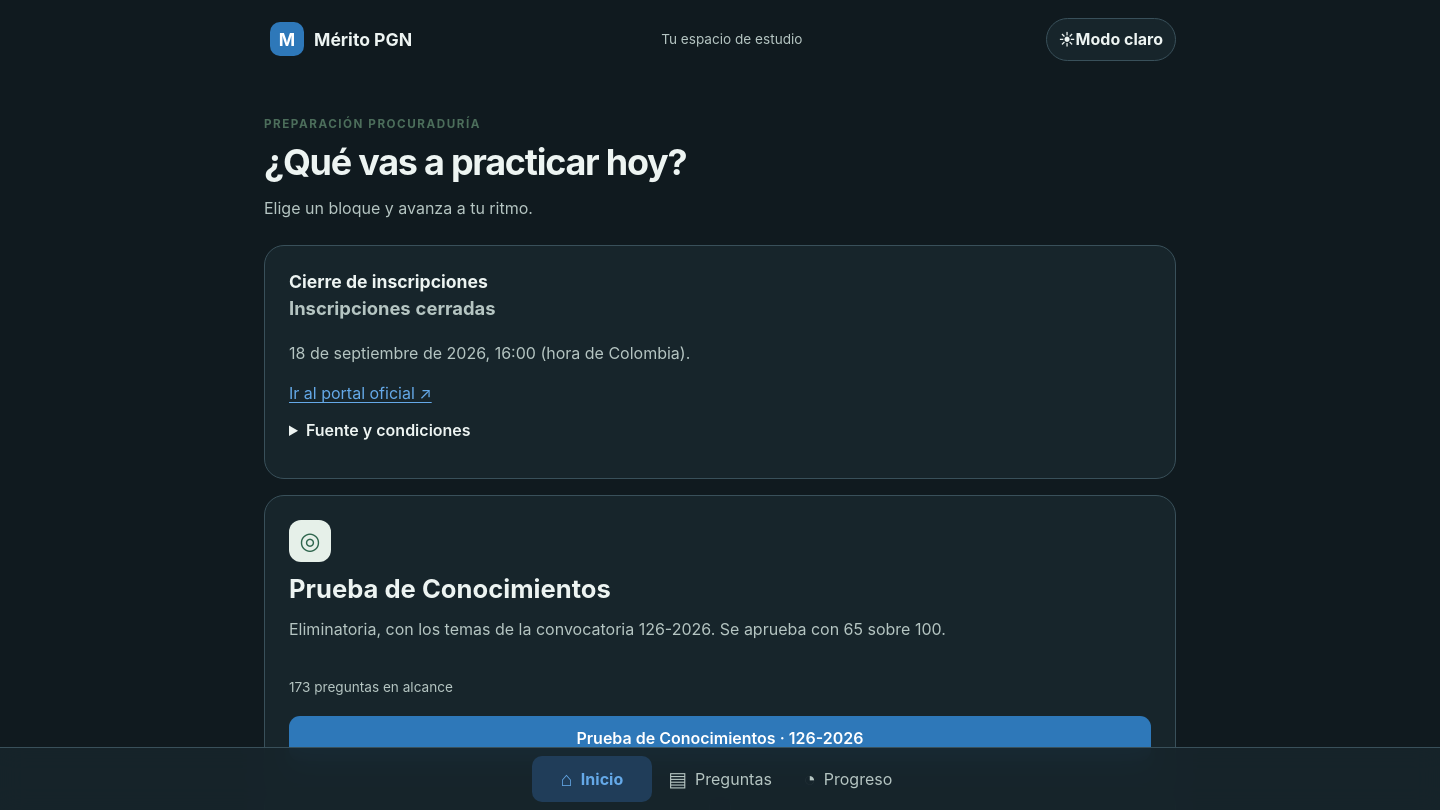
Test: estudio y simuladores móviles › toma cantidad y duración del perfil cuando la PGN ya las publico
Click the button "Prueba de Conocimientos · 126-2026": (720, 738) [289,716,1151,761]
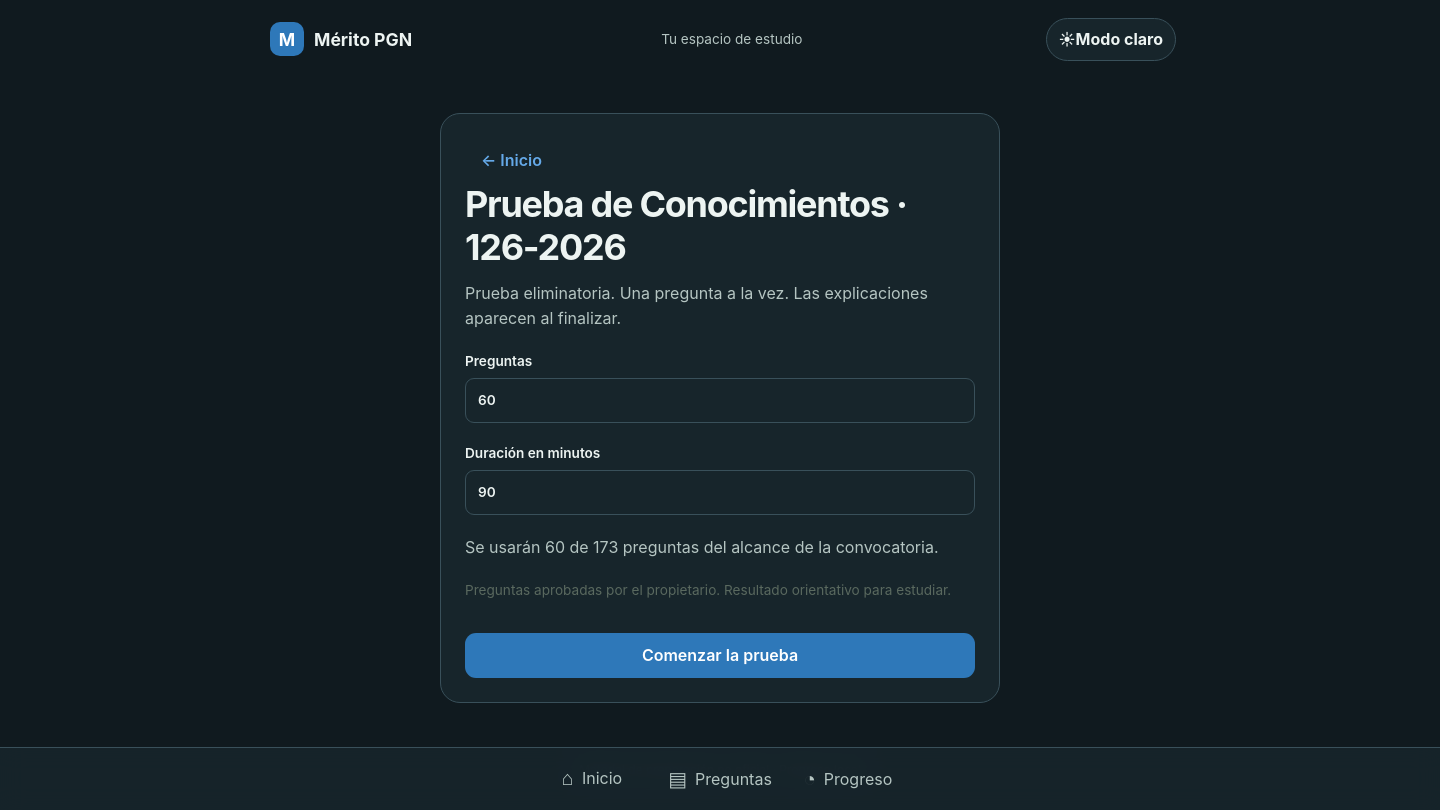
Check: the number field labelled "Preguntas" holds "60", box [465,378,975,423]
Check: the number field labelled "Duración en minutos" holds "90", box [465,470,975,515]
